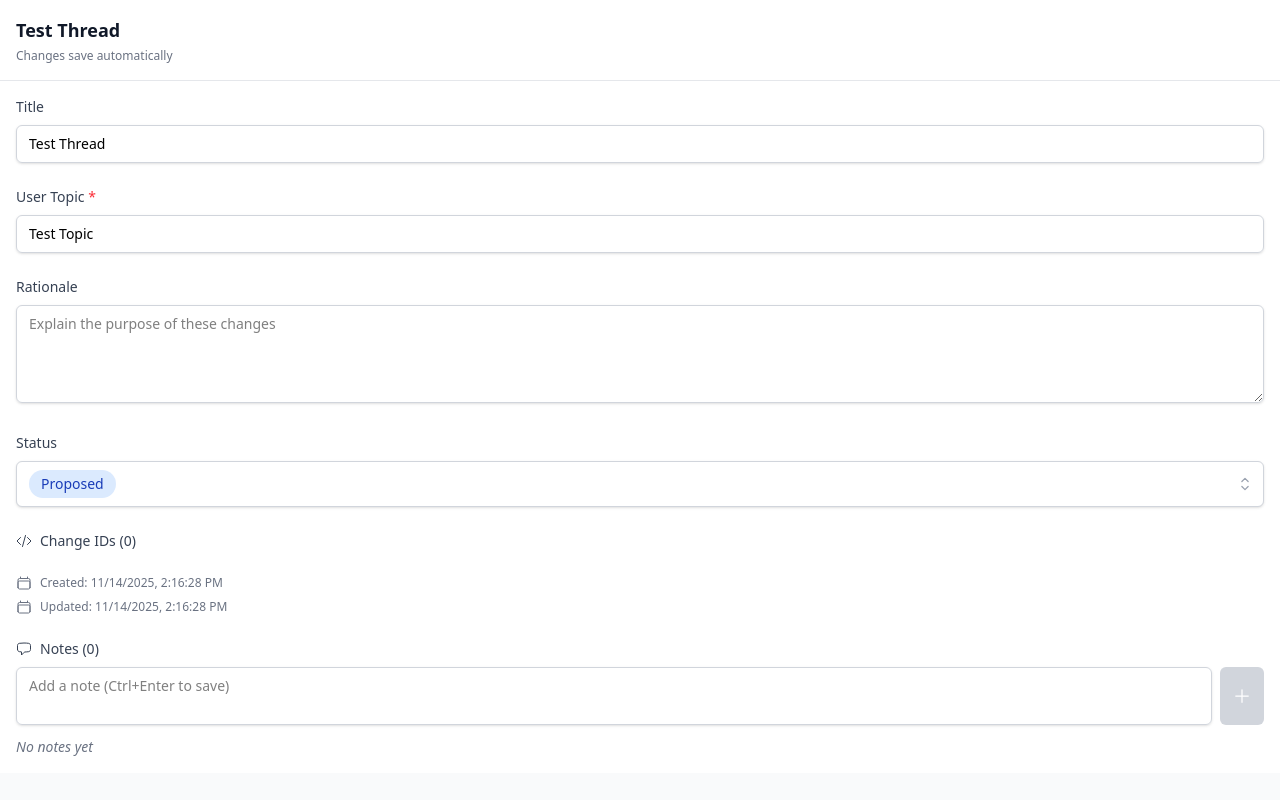
Test: ThreadMetadataPanel › Status dropdown › displays all status options
This screenshot has width=1280, height=800.
// Click the status dropdown button
Click the button "Proposed" at x=72, y=484, box left=16, top=461, right=1264, bottom=507
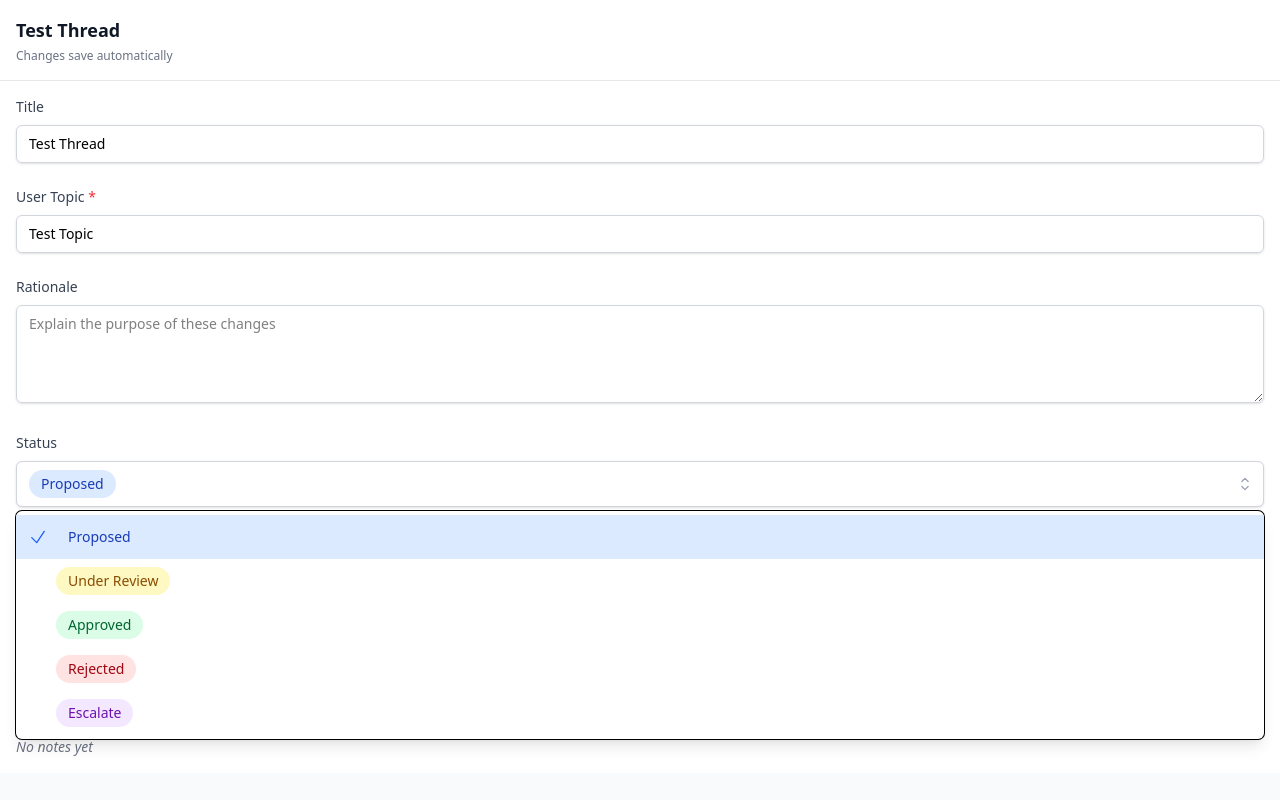
Expected: the text "Under Review" is shown, left=56, top=567, right=170, bottom=595
Expected: the text "Approved" is shown, left=56, top=611, right=144, bottom=639
Expected: the text "Rejected" is shown, left=56, top=655, right=136, bottom=683
